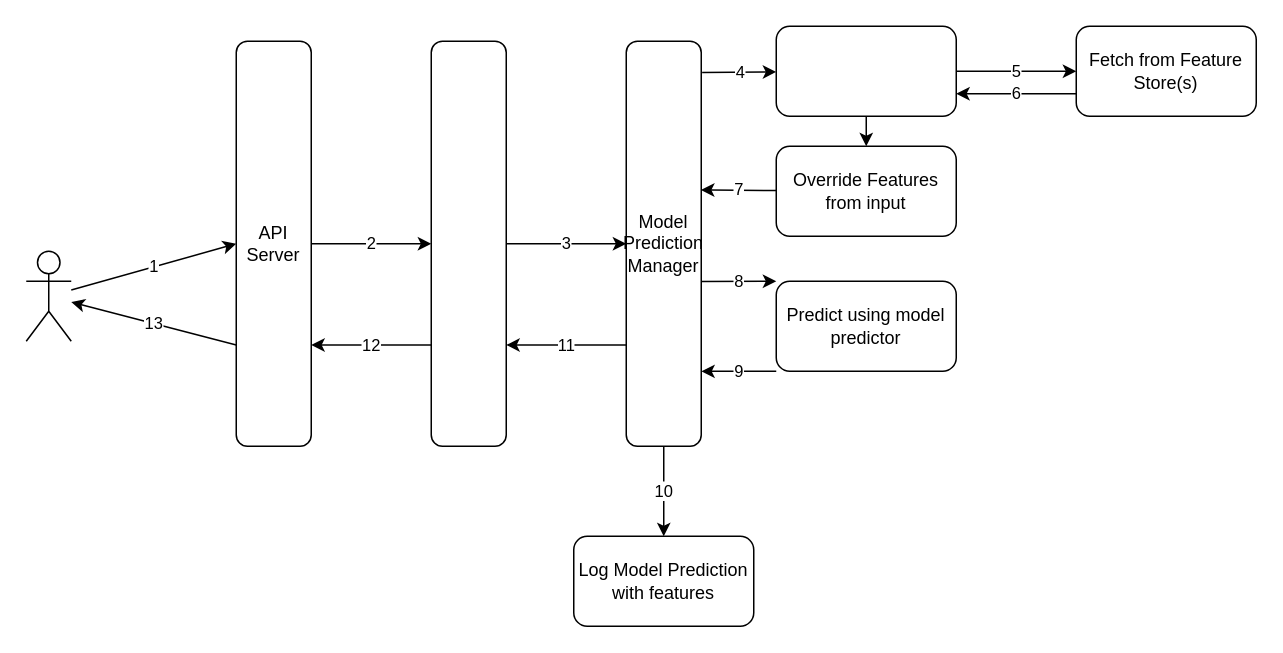
Some shapes in this 1283 by 653 pixel diagram are drawn without their labels. The shapes that lost their labels are listed below. From the top down, each one's box as (x1, y1, x2, y2) in pixels, then its label:
(775, 25, 956, 116): Feature Fetch Router
(430, 40, 506, 446): Model Registry
(25, 250, 71, 341): Actor
